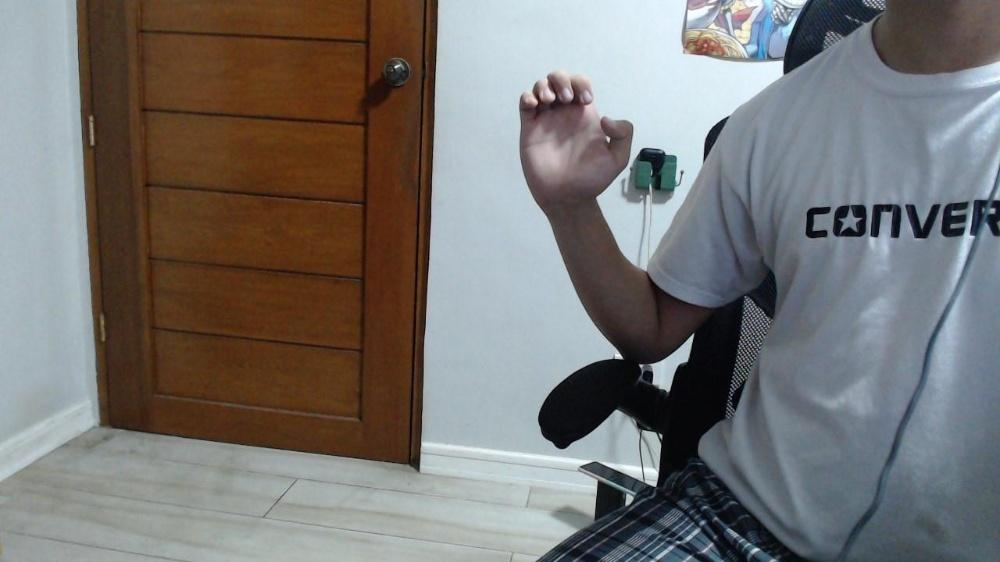e: (518, 69, 633, 198)
